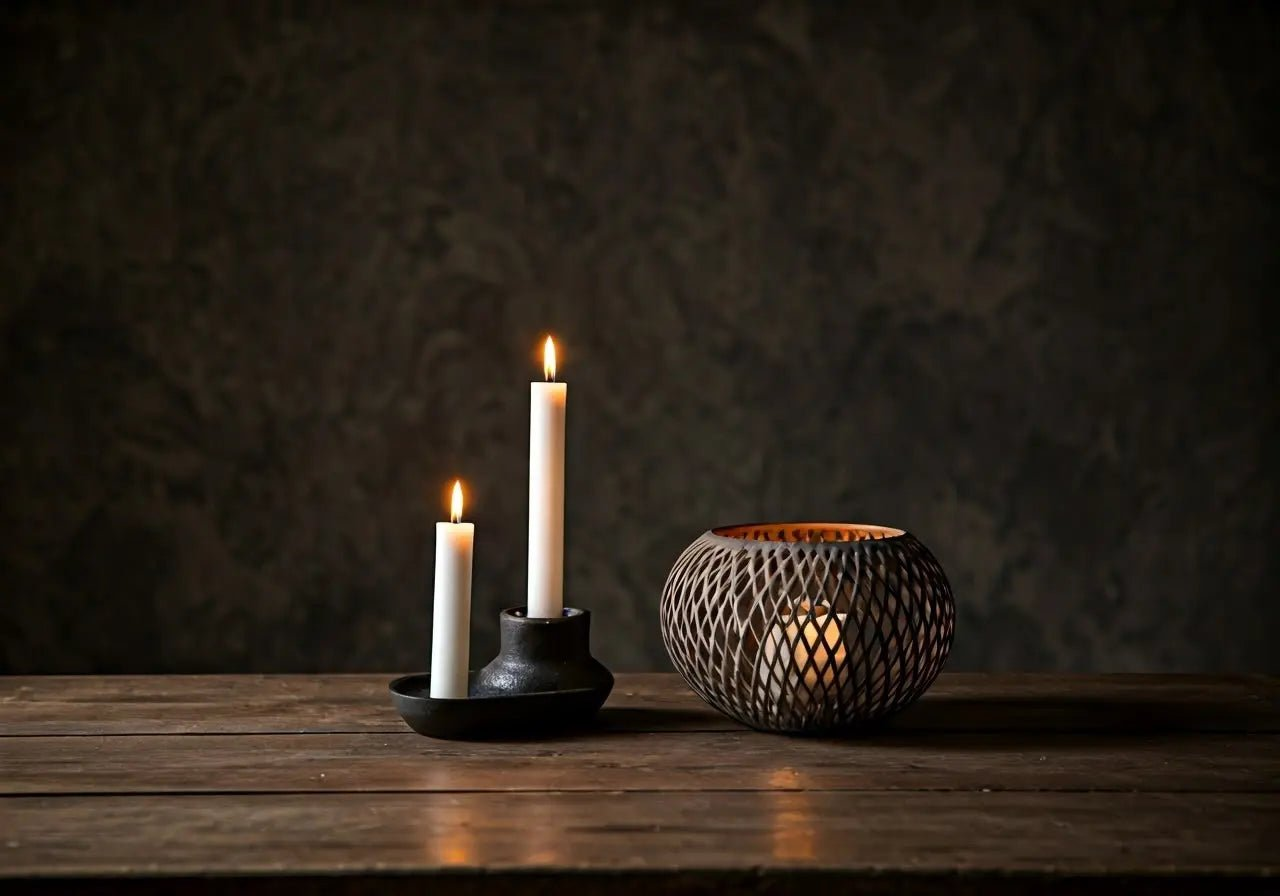Open-Flame-Hazard: (508, 321, 585, 669), (405, 439, 489, 712)
